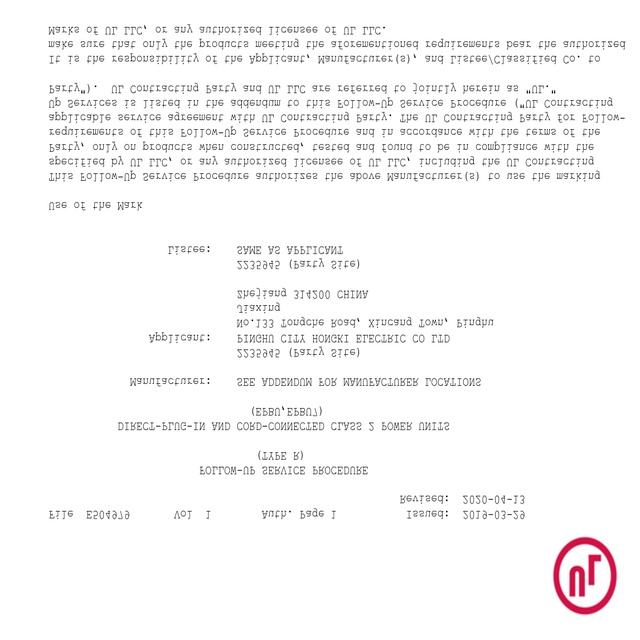ul: (553, 535, 617, 614)
